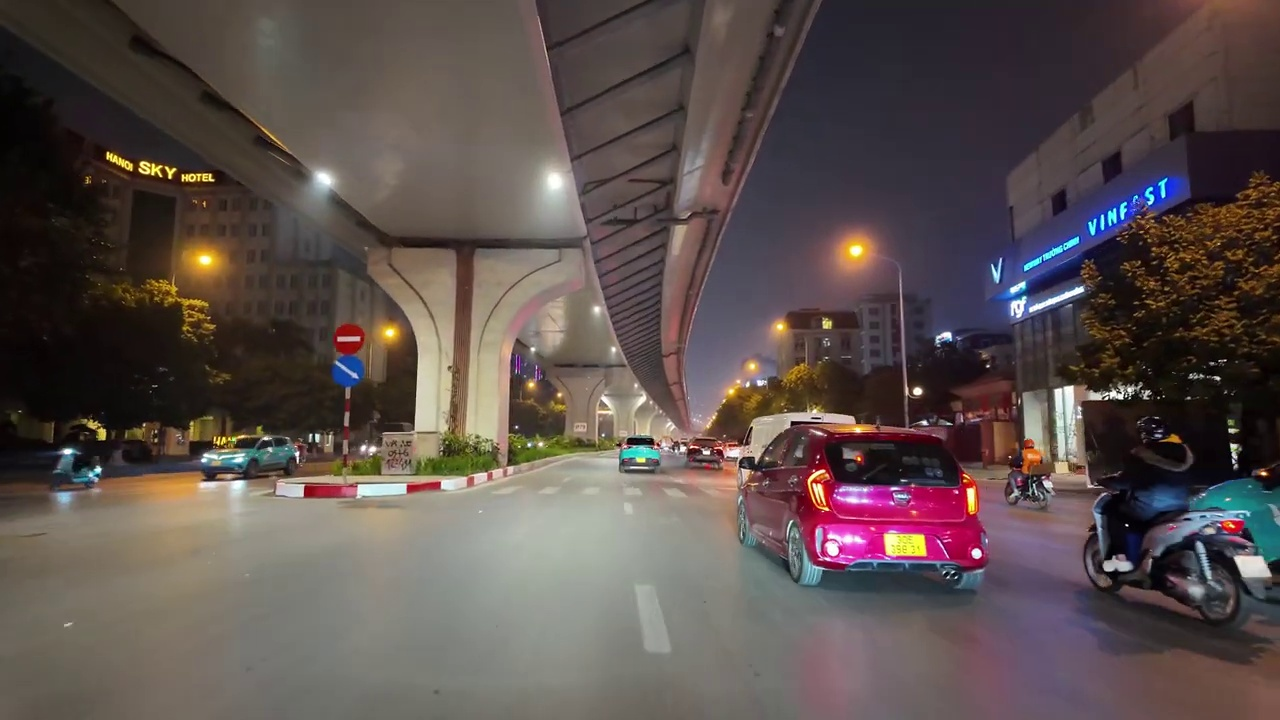acesa: (534, 169, 575, 220), (838, 235, 872, 267), (310, 168, 341, 197), (190, 247, 221, 274), (377, 322, 402, 346), (769, 316, 792, 341)
